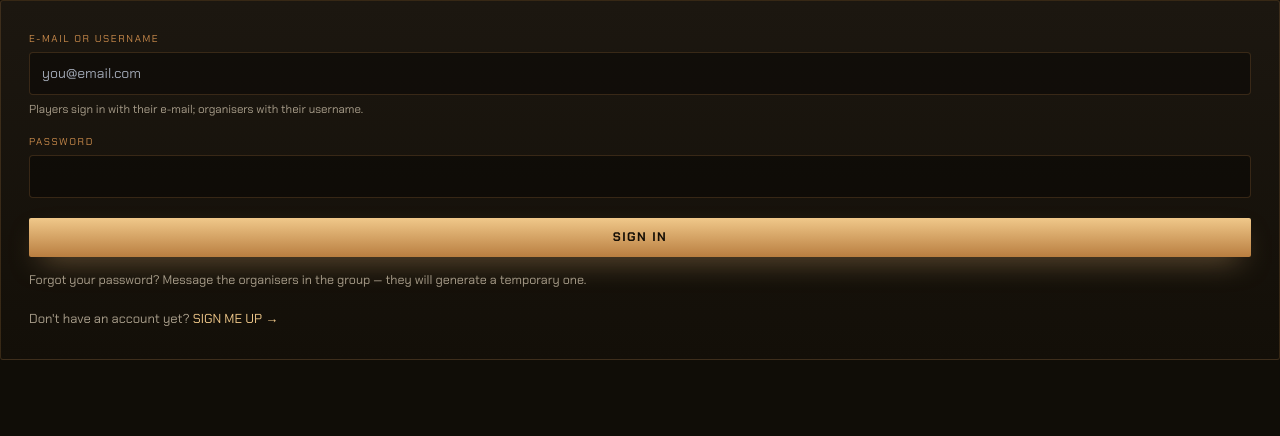
Test: entrar com a senha provisória (INS-01) › erro do login com código conhecido sai no idioma da tela
Step 1. Type "c@x.com" into the field → [640, 74], box [29,52,1251,95]
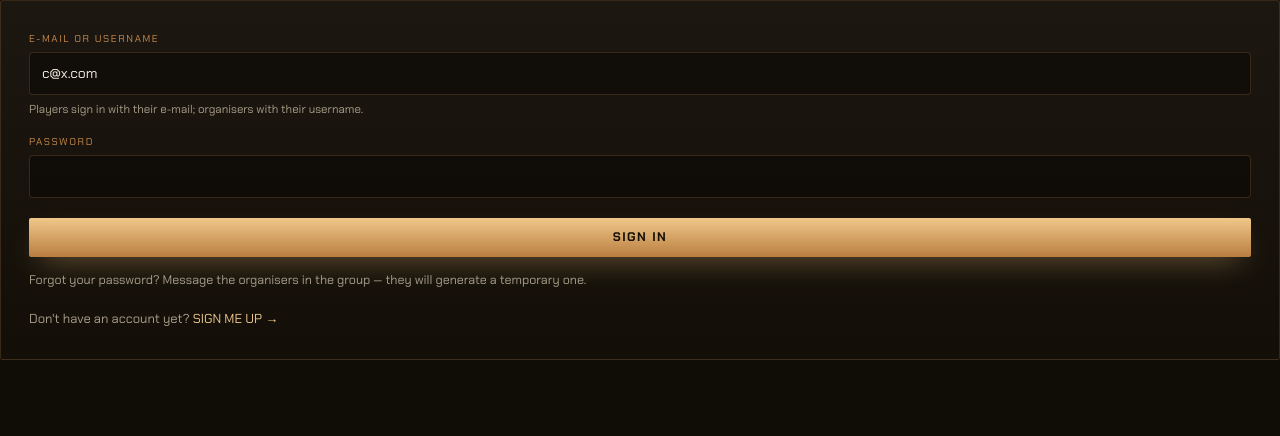
Step 2. Type "errada" into the password field labelled "PASSWORD" → [640, 177], box [29,155,1251,198]
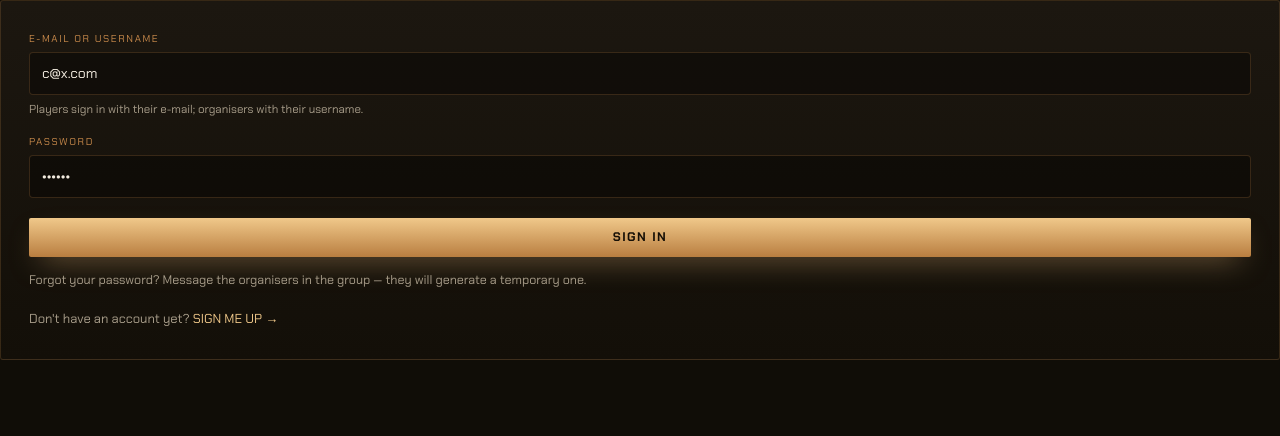
Step 3. Click the button "SIGN IN" → [640, 238], box [29,218,1251,257]
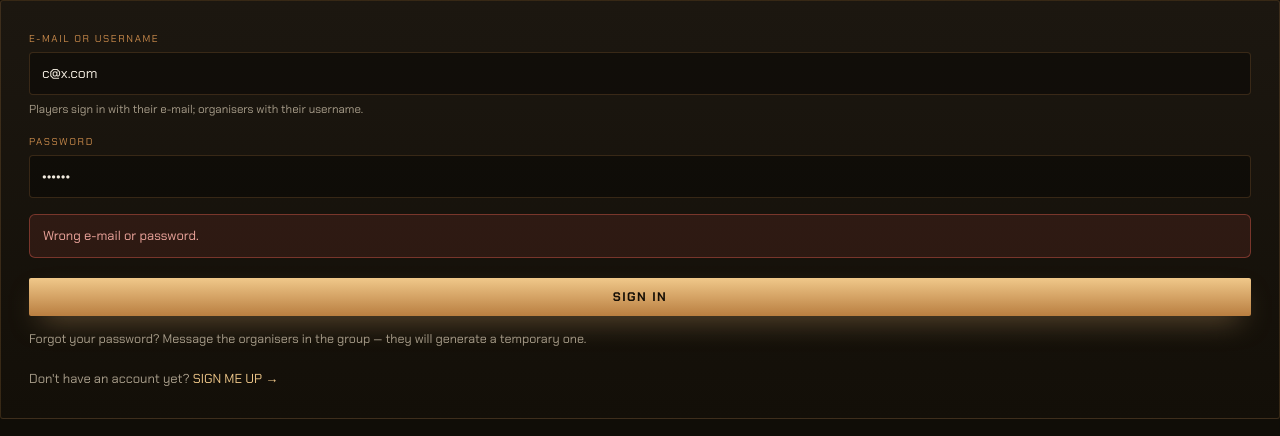
Expected: the message reads "Wrong e-mail or password.", [43,227,199,244]
